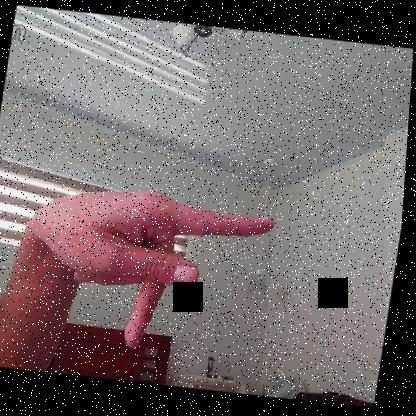P: (27, 176, 282, 364)
